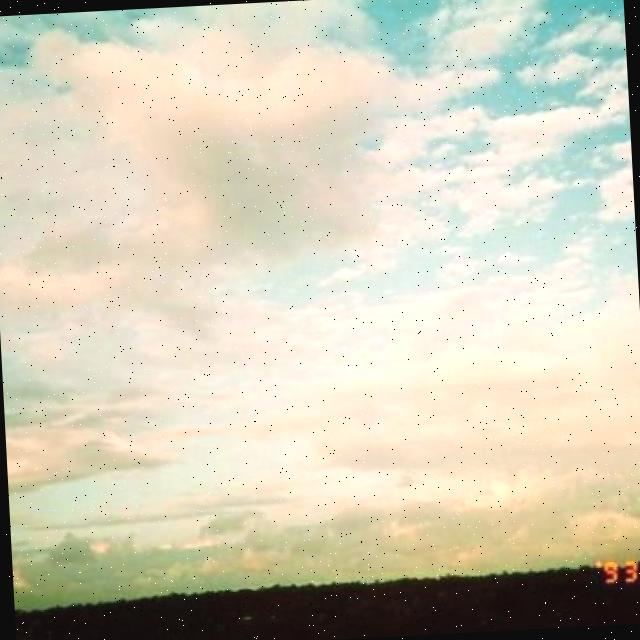Sc: (1, 11, 640, 542)
